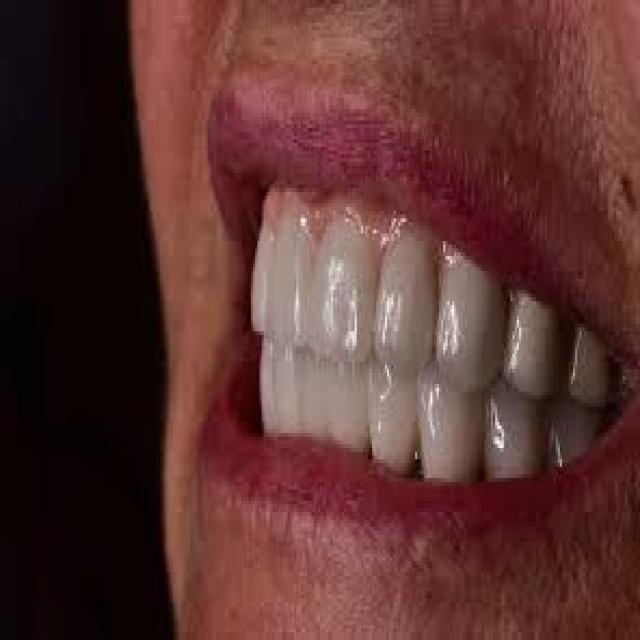tooth: (309, 203, 374, 369), (434, 241, 504, 388), (376, 218, 435, 369), (419, 358, 486, 486), (363, 346, 426, 478), (482, 373, 549, 478), (508, 282, 564, 403), (268, 192, 311, 346), (571, 308, 618, 422), (324, 346, 374, 452), (270, 328, 305, 444), (551, 388, 601, 463), (296, 342, 331, 440)
